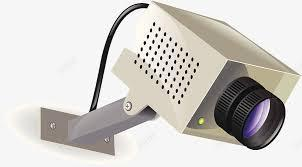tutu: (116, 7, 294, 159)
